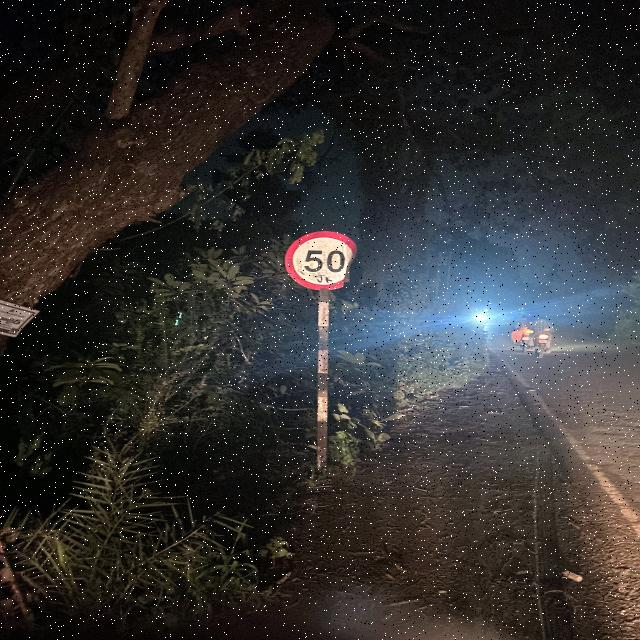speed_limit_50: (282, 230, 359, 300)
